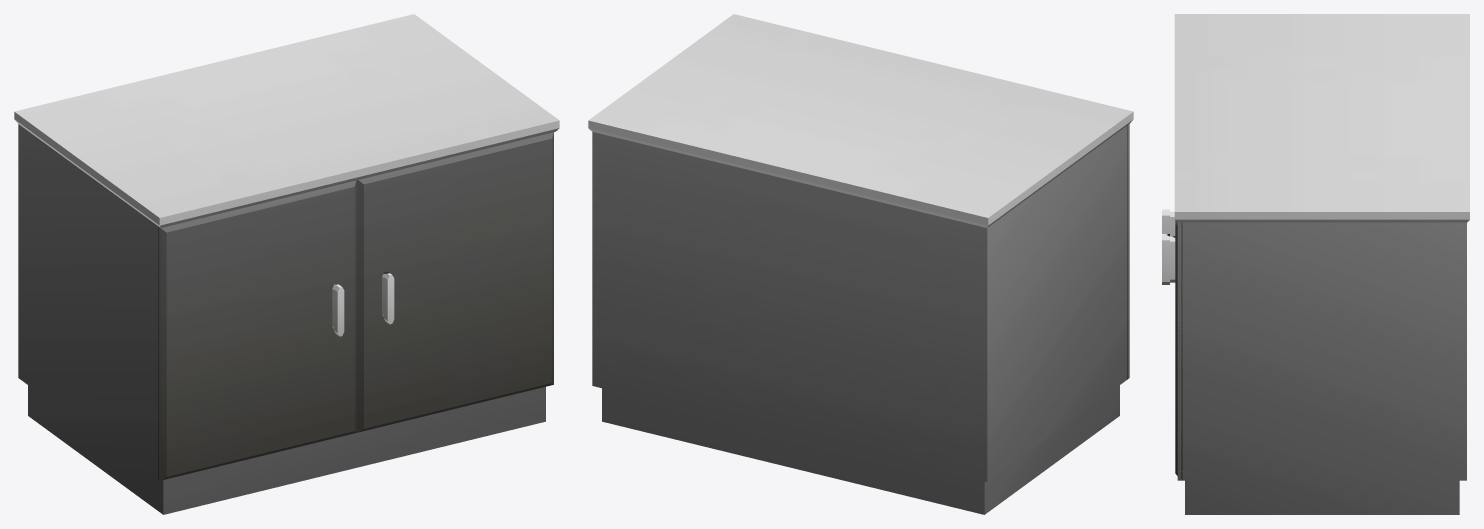
The model's file is kitchen_base_mora.glb.
3 renders of one model, left to right at view 1: azimuth 30°, elevation 25°; view 2: azimuth 150°, elevation 25°; view 3: azimuth 270°, elevation 25°, orthographic.
Visible parts, largest first — view 1: MSH_Cupboard_MTA_Kitchen_0; view 2: MSH_Cupboard_MTA_Kitchen_0; view 3: MSH_Cupboard_MTA_Kitchen_0.
Boxes of the visible parts, x1,y1,x2,y2 form: MSH_Cupboard_MTA_Kitchen_0: (14,14,559,514); MSH_Cupboard_MTA_Kitchen_0: (588,14,1133,514); MSH_Cupboard_MTA_Kitchen_0: (1162,14,1469,514).
Bounding box in the file's own units: 165 × 119 × 108.
1 material, 1 textured.
